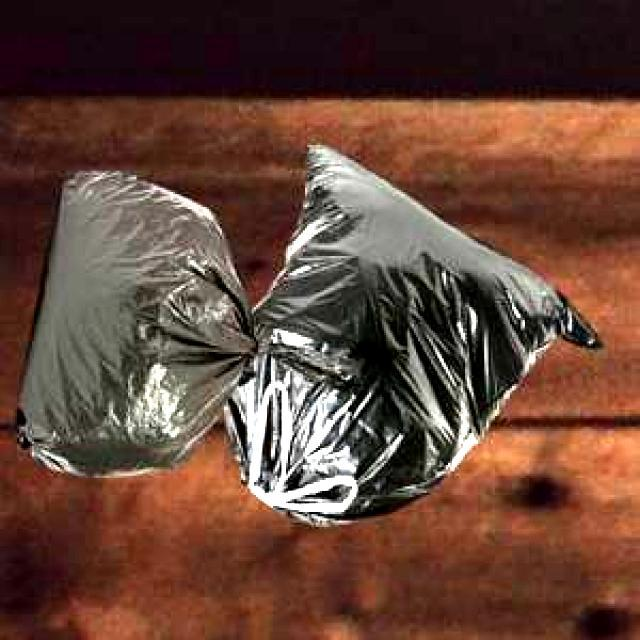Garbage_Bag: (218, 142, 602, 522), (13, 170, 360, 474)
